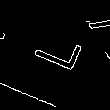L_NW: (21, 29, 81, 77)
